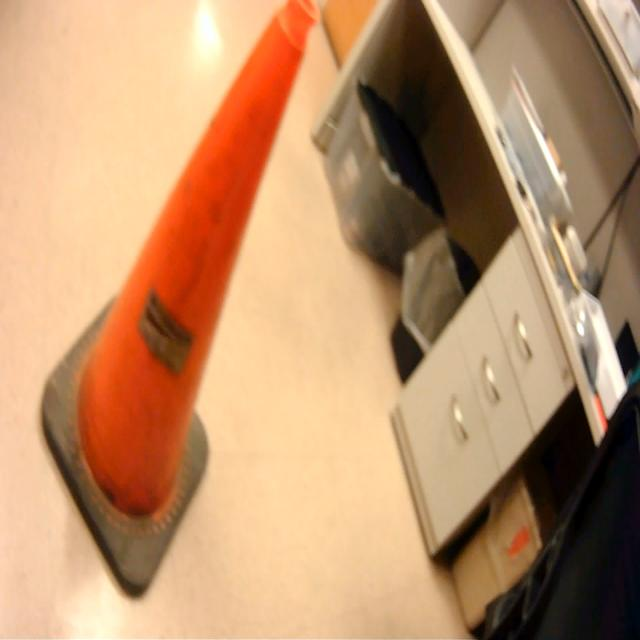traffic cone: (38, 1, 326, 606)
